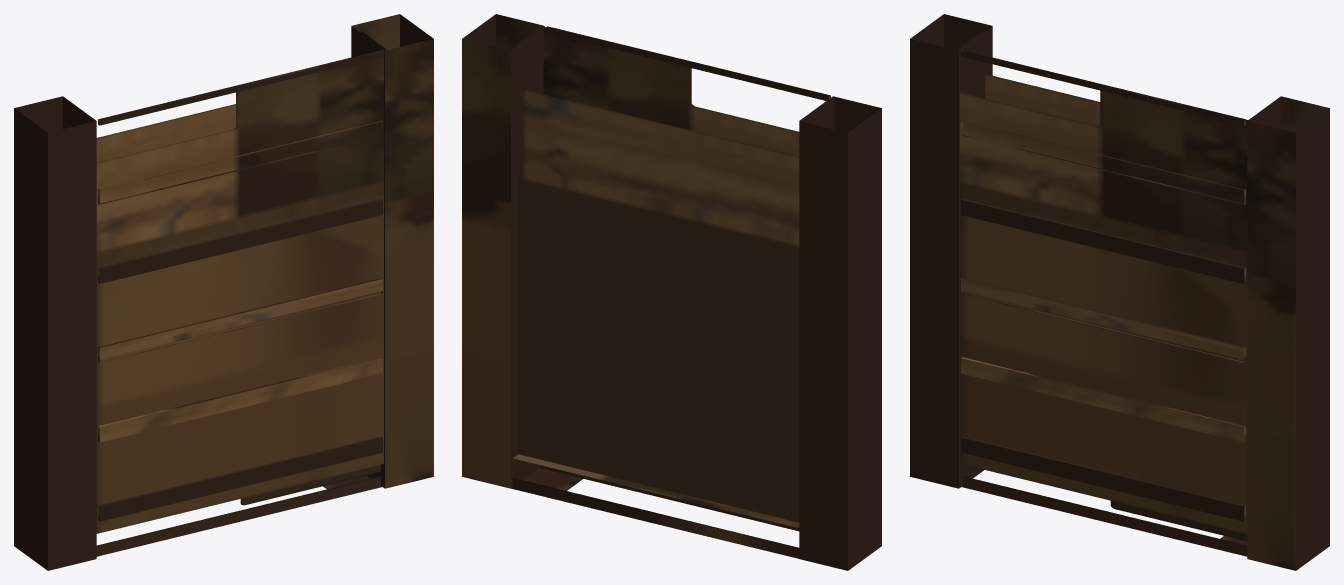
File: section-3.obj
The picture shows the model from 3 angles, left to right: view 1: azimuth 30°, elevation 25°; view 2: azimuth 150°, elevation 25°; view 3: azimuth 330°, elevation 25°; orthographic projection.
Size of the model in its own units: 0.79 by 0.86 by 0.121.
